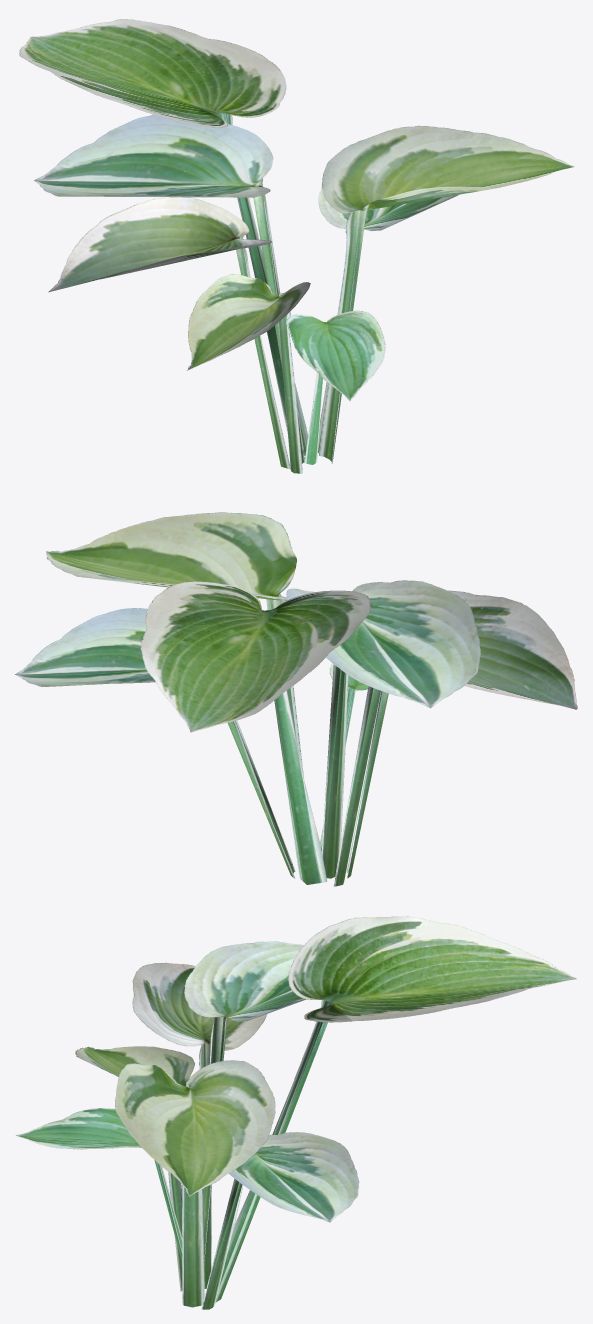
Rendered from plant_small_wg_00Z.fbx.
3 renders of one model, top to bottom at view 1: azimuth 30°, elevation 25°; view 2: azimuth 150°, elevation 25°; view 3: azimuth 270°, elevation 25°, orthographic. The views are drawn at different scales.
Parts seen in each view (by area): view 1: plant_small_wg_00Z; view 2: plant_small_wg_00Z; view 3: plant_small_wg_00Z.
Part boxes in pixels (x1,y1,x2,y2): plant_small_wg_00Z: (19, 19, 574, 473); plant_small_wg_00Z: (15, 512, 577, 886); plant_small_wg_00Z: (16, 916, 576, 1309).
Size of the model in its own units: 65.62 by 41.29 by 65.33.
Materials: 1 (1 with a texture image).
